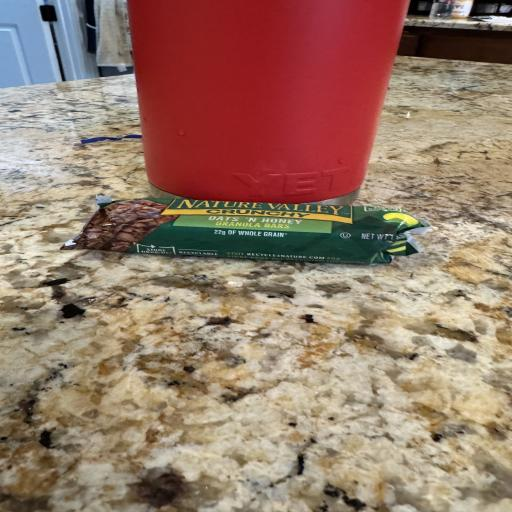granola: (62, 197, 429, 263)
